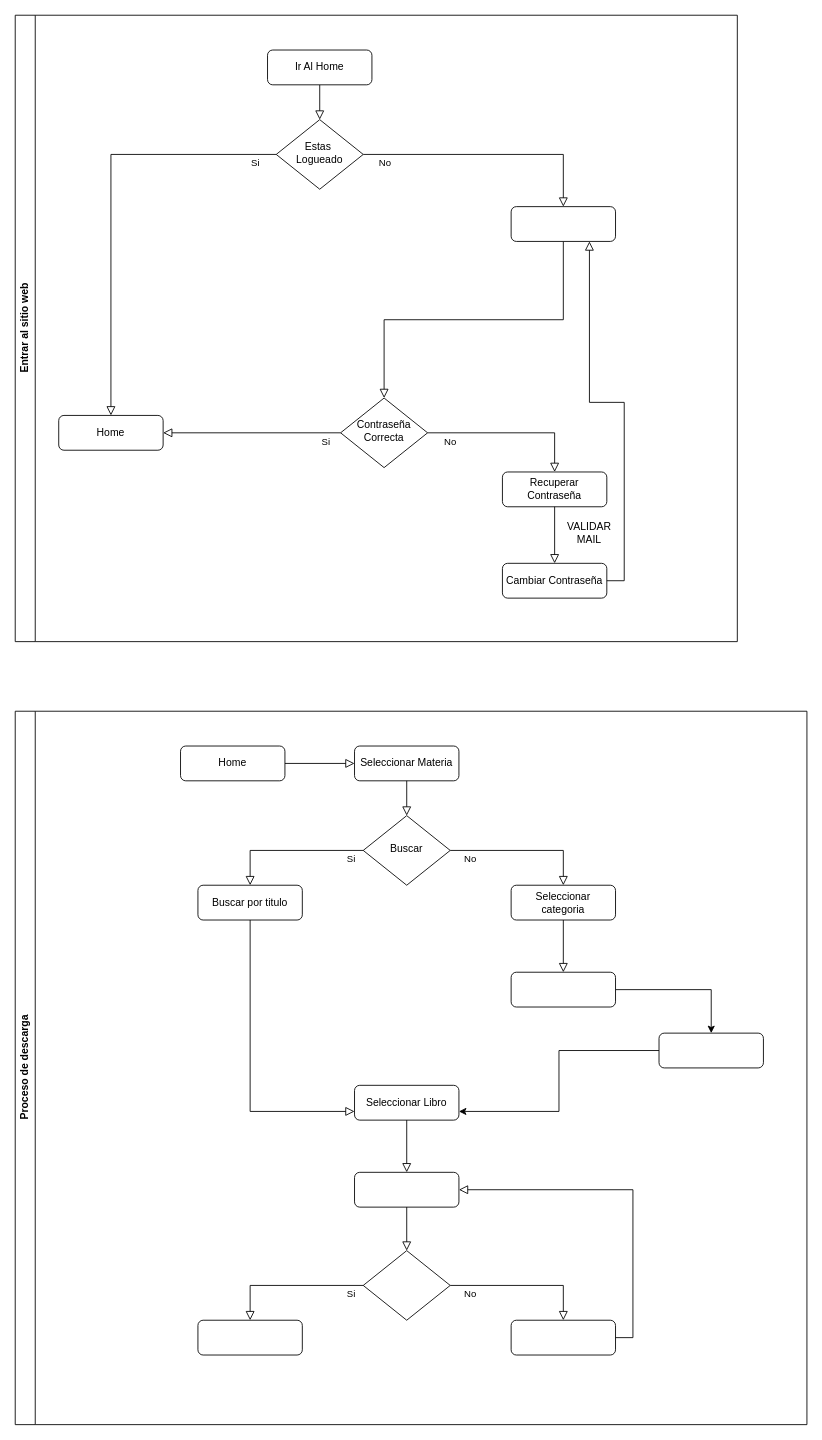
The diagram is 822 pixels wide and 1440 high, and some of its shapes have lost their labels. The centre of each missing label's shape, as x and y in pixels:
Descarga Disponible: the point at 406,1285
Descargar: the point at 249,1337
Detalles Del Libro: the point at 406,1189
Error: the point at 563,1337
Iniciar Sesion: the point at 563,223
Seleccionar Género: the point at 563,989
Seleccionar índice de libro: the point at 710,1050
